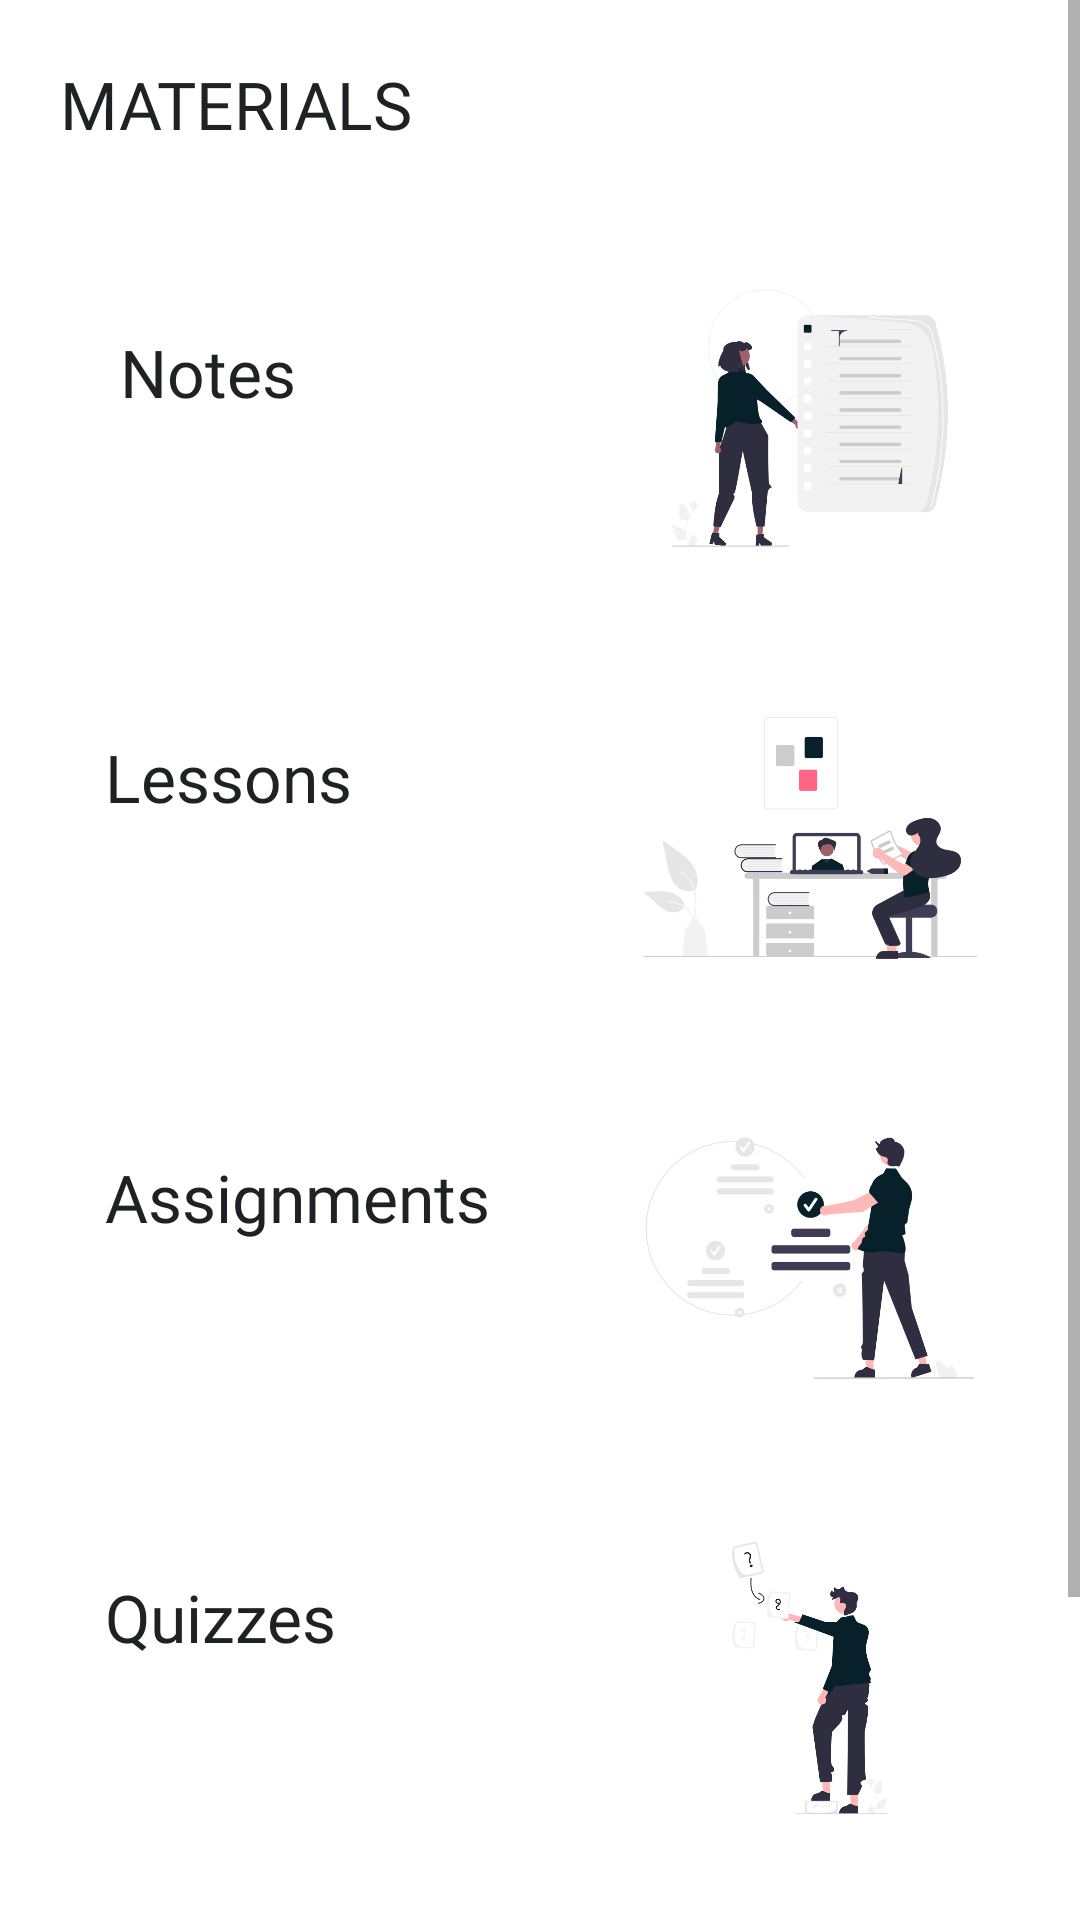

Point at icon controls on the screen. Image size 1080×1920, points as (x,y).
lessons: (810,848)
notes: (810,431)
quiz: (809,1678)
